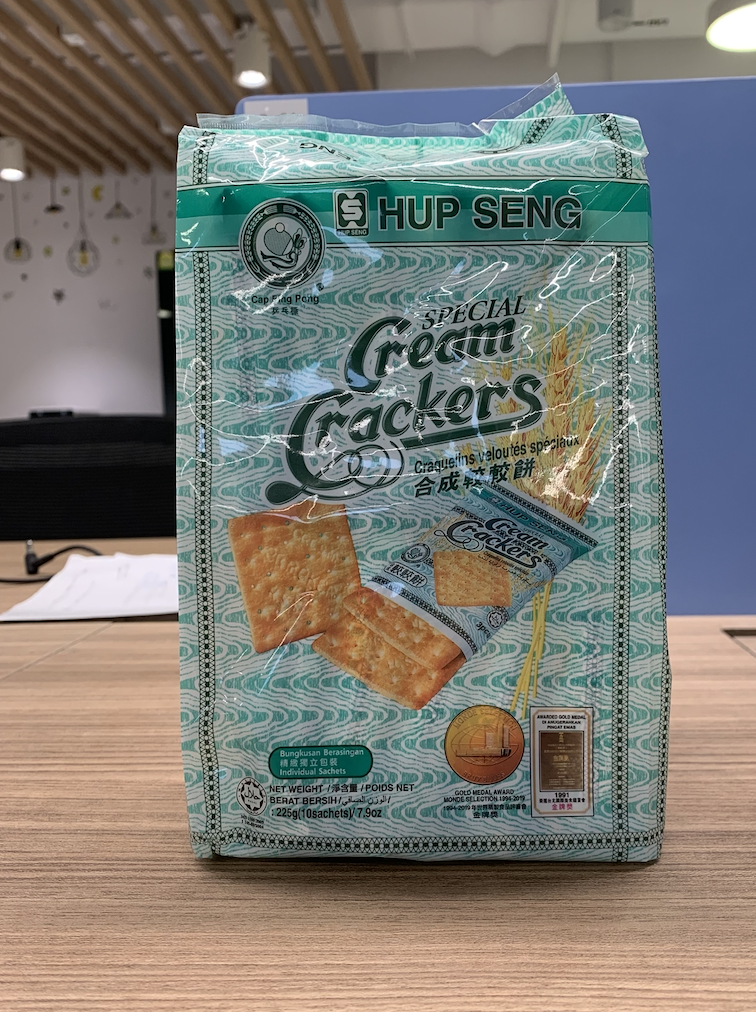halal: (237, 779, 266, 811)
